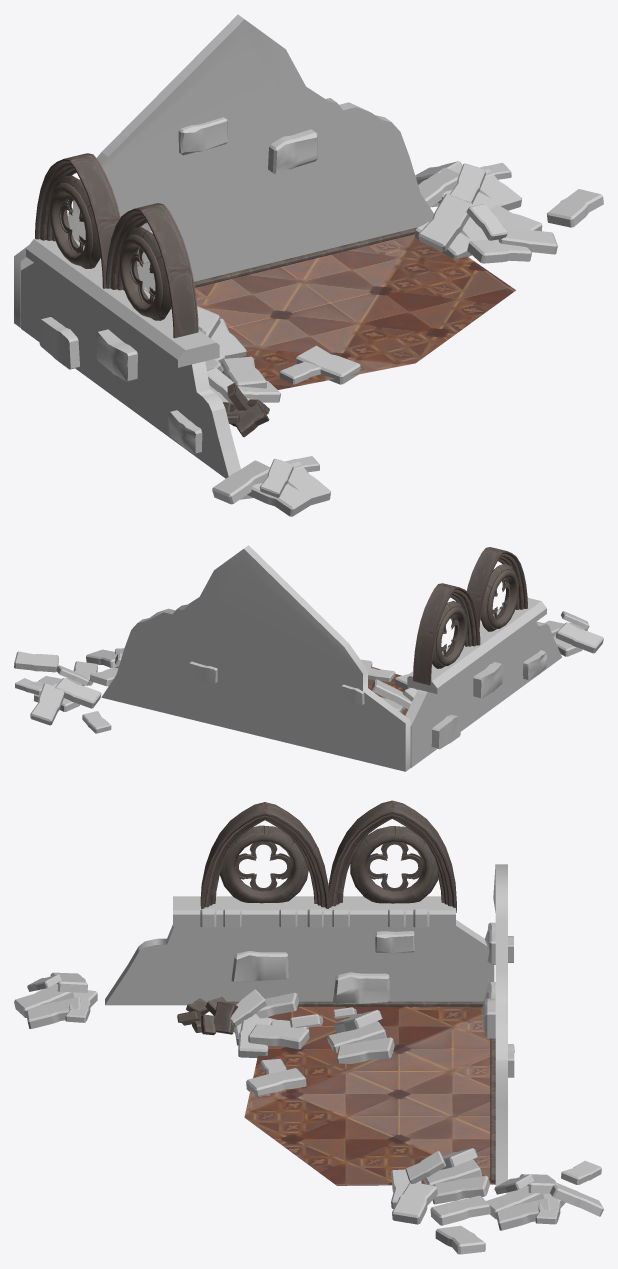
Rendered from ArchitectureSet4.fbx.
3 renders of one model, top to bottom at view 1: azimuth 30°, elevation 25°; view 2: azimuth 150°, elevation 25°; view 3: azimuth 270°, elevation 25°, orthographic. The views are drawn at different scales.
Parts seen in each view (by area): view 1: pasted__pasted__polySurface251, pPlane4, pasted__pasted__polySurface255, pasted__pasted__pCube112, pasted__pasted__polySurface256, pasted__pasted__polySurface257, pasted__pasted__pTorus74, pasted__pasted__pTorus75, pCube279, pCube255, pCube261, pCube264 (+19 smaller); view 2: pasted__pasted__polySurface251, pasted__pasted__polySurface255, pasted__pasted__pCube112, pasted__pasted__polySurface257, pasted__pasted__polySurface256, pasted__pasted__pTorus74, pasted__pasted__pTorus75, pCube291, pCube296, pCube261, pCube286, pCube293 (+9 smaller); view 3: pPlane4, pasted__pasted__polySurface255, pasted__pasted__pCube112, pasted__pasted__polySurface256, pasted__pasted__polySurface251, pasted__pasted__polySurface257, pasted__pasted__pTorus75, pasted__pasted__pTorus74, pCube265, pCube262, pCube282, pCube268 (+20 smaller).
Boxes of the visible parts, left/top/right/bottom form: pasted__pasted__polySurface251: left=14, top=14, right=433, bottom=327; pPlane4: left=171, top=234, right=515, bottom=389; pasted__pasted__polySurface255: left=21, top=263, right=240, bottom=478; pasted__pasted__pCube112: left=26, top=238, right=219, bottom=367; pasted__pasted__polySurface256: left=106, top=203, right=198, bottom=338; pasted__pasted__polySurface257: left=35, top=153, right=120, bottom=288; pasted__pasted__pTorus74: left=119, top=227, right=171, bottom=320; pasted__pasted__pTorus75: left=49, top=175, right=100, bottom=268; pCube279: left=418, top=193, right=472, bottom=251; pCube255: left=268, top=129, right=317, bottom=174; pCube261: left=95, top=329, right=137, bottom=381; pCube264: left=39, top=317, right=79, bottom=369; pasted__pasted__polySurface251: left=101, top=545, right=410, bottom=771; pasted__pasted__polySurface255: left=405, top=621, right=561, bottom=767; pasted__pasted__pCube112: left=407, top=598, right=546, bottom=693; pasted__pasted__polySurface257: left=413, top=583, right=480, bottom=685; pasted__pasted__polySurface256: left=467, top=547, right=527, bottom=628; pasted__pasted__pTorus74: left=480, top=564, right=518, bottom=631; pasted__pasted__pTorus75: left=432, top=601, right=467, bottom=668; pCube291: left=30, top=683, right=64, bottom=725; pCube296: left=556, top=622, right=603, bottom=653; pCube261: left=473, top=662, right=502, bottom=698; pCube286: left=55, top=678, right=101, bottom=708; pCube293: left=14, top=651, right=58, bottom=672; pPlane4: left=244, top=1006, right=495, bottom=1185; pasted__pasted__polySurface255: left=105, top=920, right=494, bottom=1005; pasted__pasted__pCube112: left=173, top=896, right=455, bottom=927; pasted__pasted__polySurface256: left=200, top=802, right=328, bottom=908; pasted__pasted__polySurface251: left=493, top=864, right=507, bottom=1186; pasted__pasted__polySurface257: left=328, top=800, right=456, bottom=912; pasted__pasted__pTorus75: left=350, top=826, right=438, bottom=903; pasted__pasted__pTorus74: left=220, top=825, right=308, bottom=903; pCube265: left=333, top=972, right=389, bottom=1004; pCube262: left=231, top=951, right=288, bottom=982; pCube282: left=392, top=1183, right=437, bottom=1224; pCube268: left=248, top=1024, right=309, bottom=1049.
Size of the model in its own units: 984 by 416 by 904.
